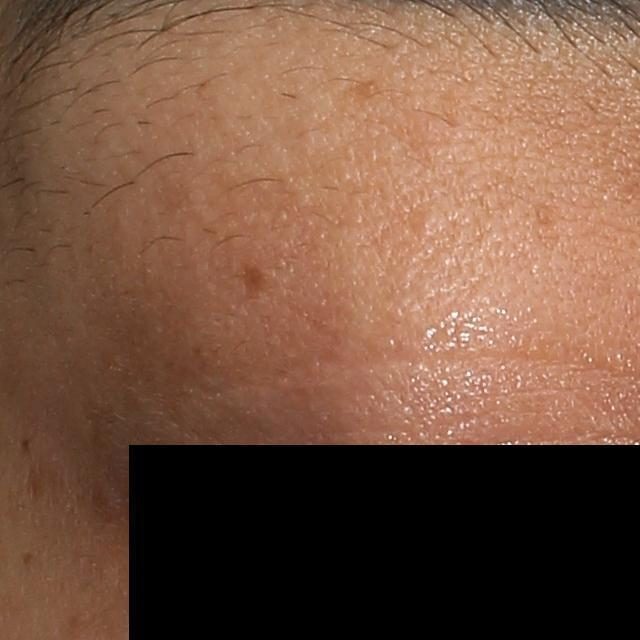comedo: (410, 205, 444, 238)
melasma: (241, 264, 263, 302)
nevus: (13, 436, 32, 458)
